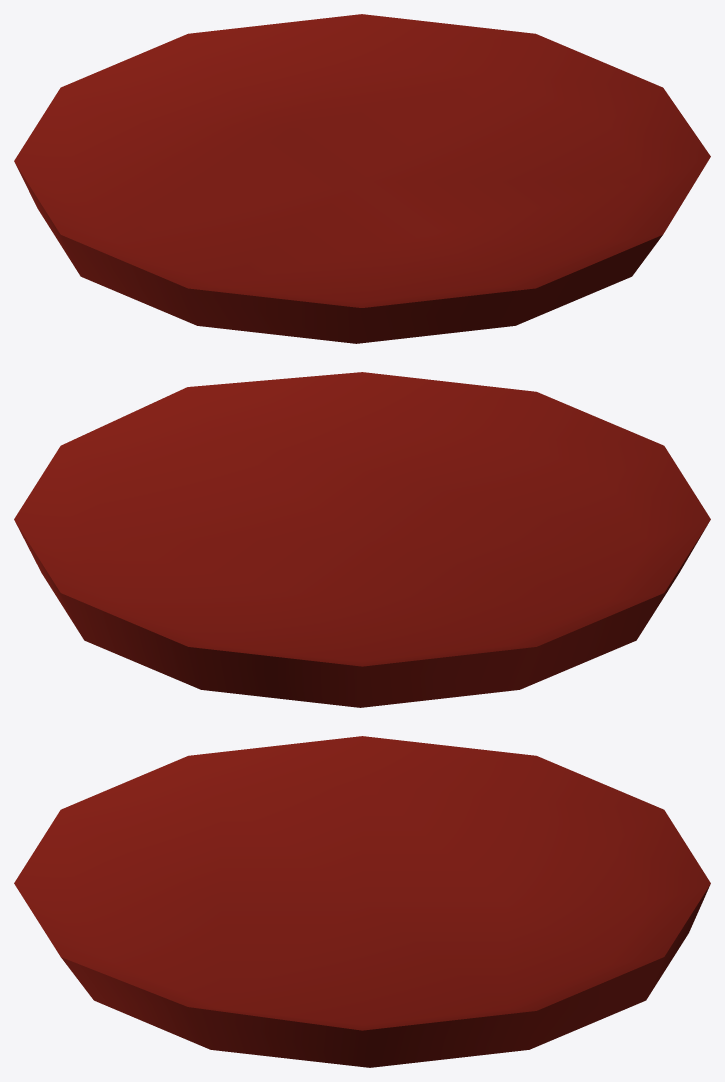
File: Tależ do tortu_Średni.fbx
3 renders of one model, top to bottom at view 1: azimuth 30°, elevation 25°; view 2: azimuth 150°, elevation 25°; view 3: azimuth 270°, elevation 25°, orthographic.
Parts seen in each view (by area): view 1: Tależ do tortu_Medium; view 2: Tależ do tortu_Medium; view 3: Tależ do tortu_Medium.
Part boxes in pixels (x1=…): Tależ do tortu_Medium: x1=14, y1=14, x2=710, y2=343; Tależ do tortu_Medium: x1=14, y1=372, x2=710, y2=707; Tależ do tortu_Medium: x1=14, y1=736, x2=710, y2=1067.
Size of the model in its own units: 20.48 by 1.78 by 20.48.
